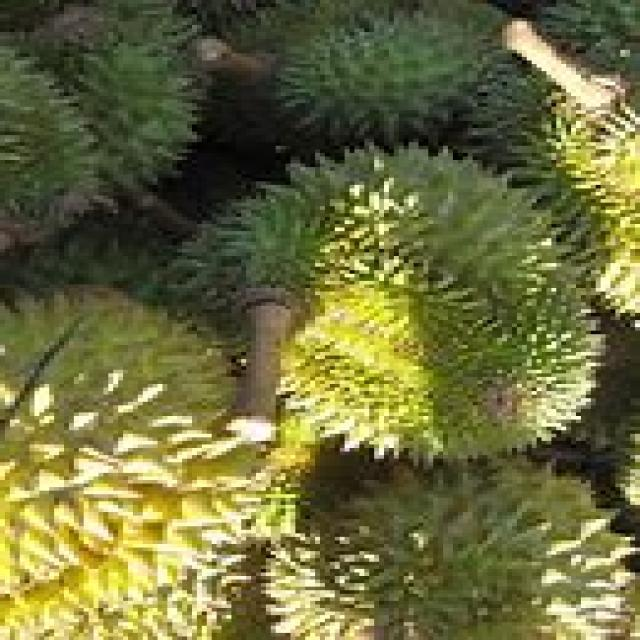immature: (140, 138, 612, 464)
